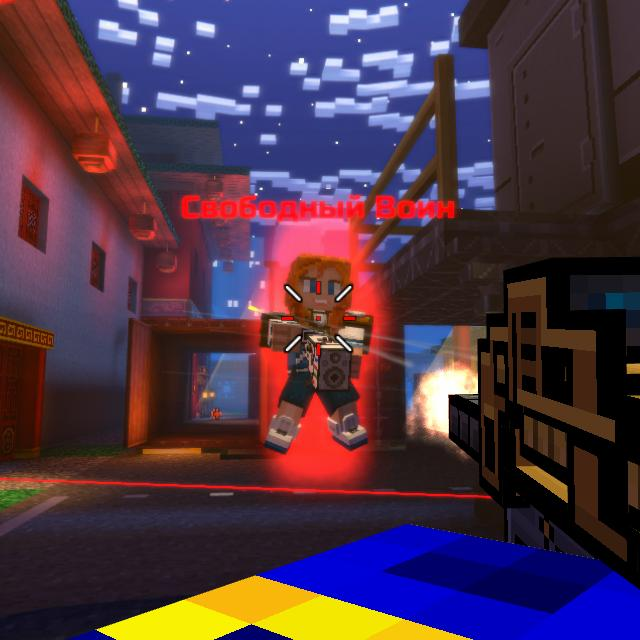Enemy: (258, 253, 374, 455)
